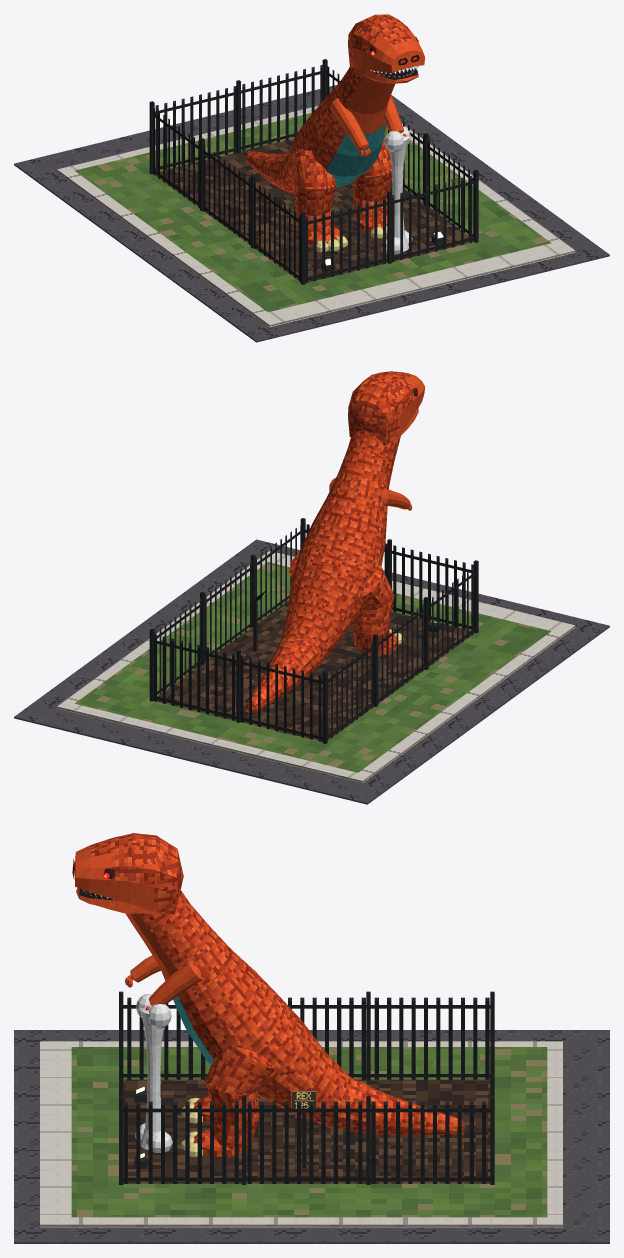
Rendered from beach-blvd-rex.glb.
3 views of the same model, one above another, from view 1: azimuth 30°, elevation 25°; view 2: azimuth 150°, elevation 25°; view 3: azimuth 270°, elevation 25° (orthographic). The views are drawn at different scales.
Visible parts, largest first — view 1: lot, rex_statue; view 2: lot, rex_statue; view 3: lot, rex_statue.
Part boxes in pixels (x1=…): lot: x1=14, y1=59, x2=609, y2=342; rex_statue: x1=245, y1=14, x2=424, y2=254; lot: x1=14, y1=518, x2=609, y2=804; rex_statue: x1=245, y1=371, x2=424, y2=712; lot: x1=14, y1=991, x2=609, y2=1243; rex_statue: x1=72, y1=833, x2=465, y2=1157.
Size of what is drawn, in the model's own units: 9.6 by 6.36 by 11.4.
Materials: 9 (9 with a texture image).
